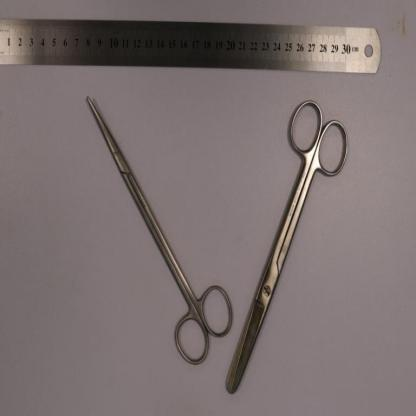7 Metzenbaum Scissors: (86, 95, 235, 368)
Dressing Scissors: (225, 96, 350, 396)
